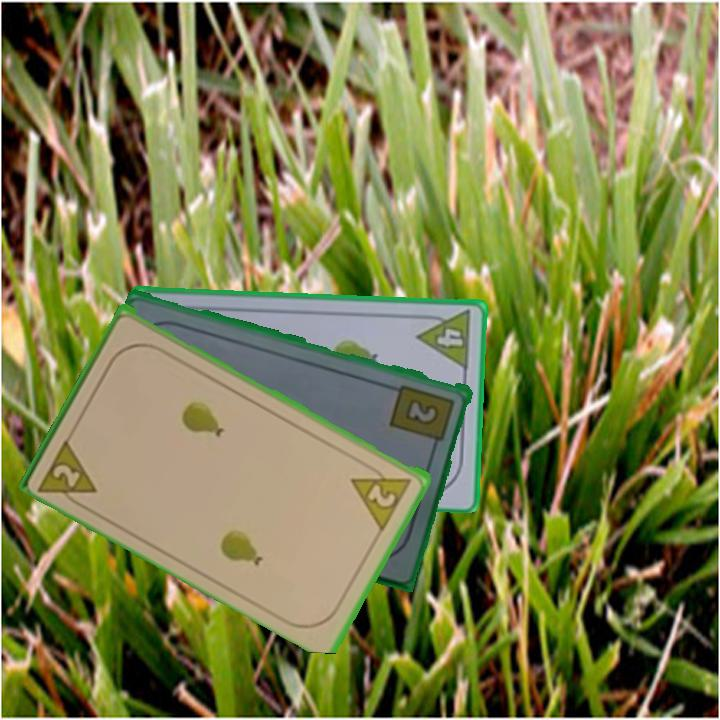2b: (387, 381, 458, 452)
2p: (36, 432, 101, 513), (347, 459, 416, 532)
4p: (414, 307, 474, 372)
